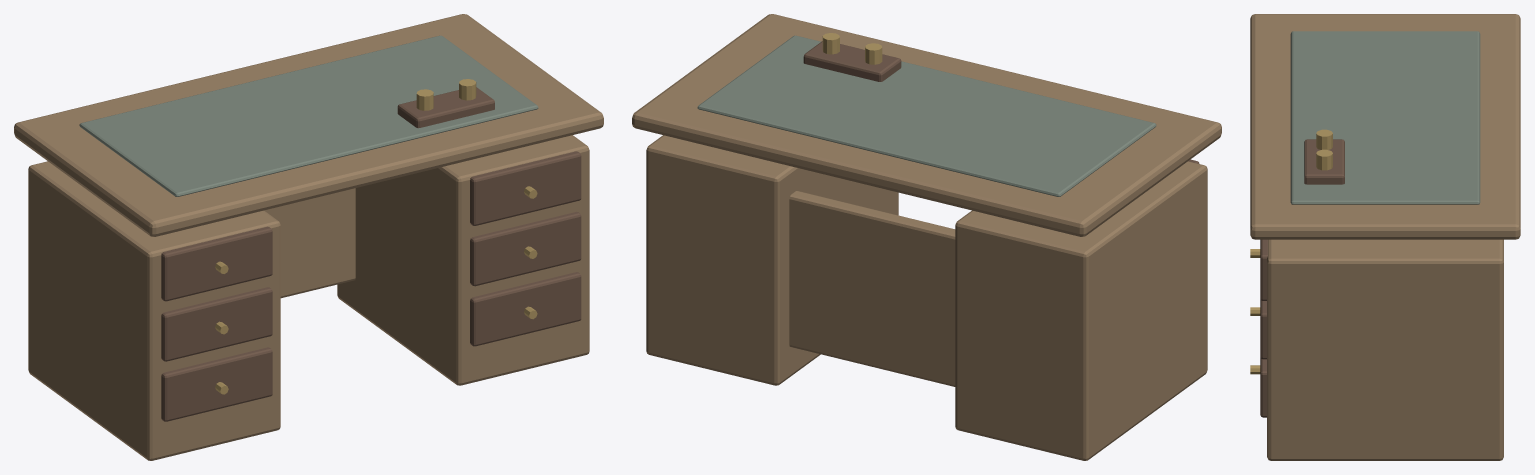
3 views of the same model, side by side, from view 1: azimuth 30°, elevation 25°; view 2: azimuth 150°, elevation 25°; view 3: azimuth 270°, elevation 25° (orthographic). The views are drawn at different scales.
Visible parts, largest first — view 1: writingDesk; view 2: writingDesk; view 3: writingDesk.
Part boxes in pixels (<box>): writingDesk: <box>14,14,603,460</box>; writingDesk: <box>632,14,1221,460</box>; writingDesk: <box>1250,14,1520,460</box>.
Size of the model in its own units: 1.5 by 0.865 by 0.8.
